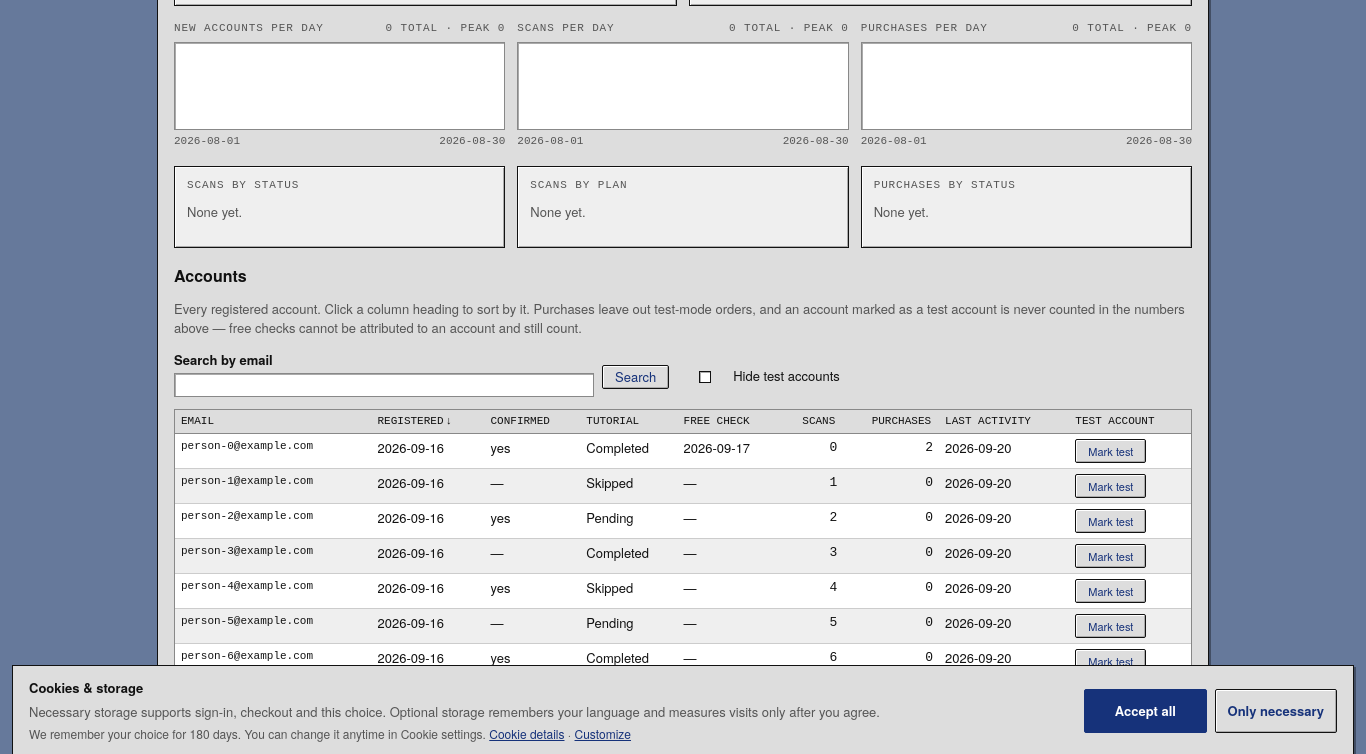
Test case: owner dashboard accounts list › says no account matches a search that found none
(page scrolled)
Check: the text "person-0@example.com" is shown, box [175,434,372,469]
Step 1. Type "nobody" into the field labelled "Search by email" → (384, 385), box [174,373,594,397]
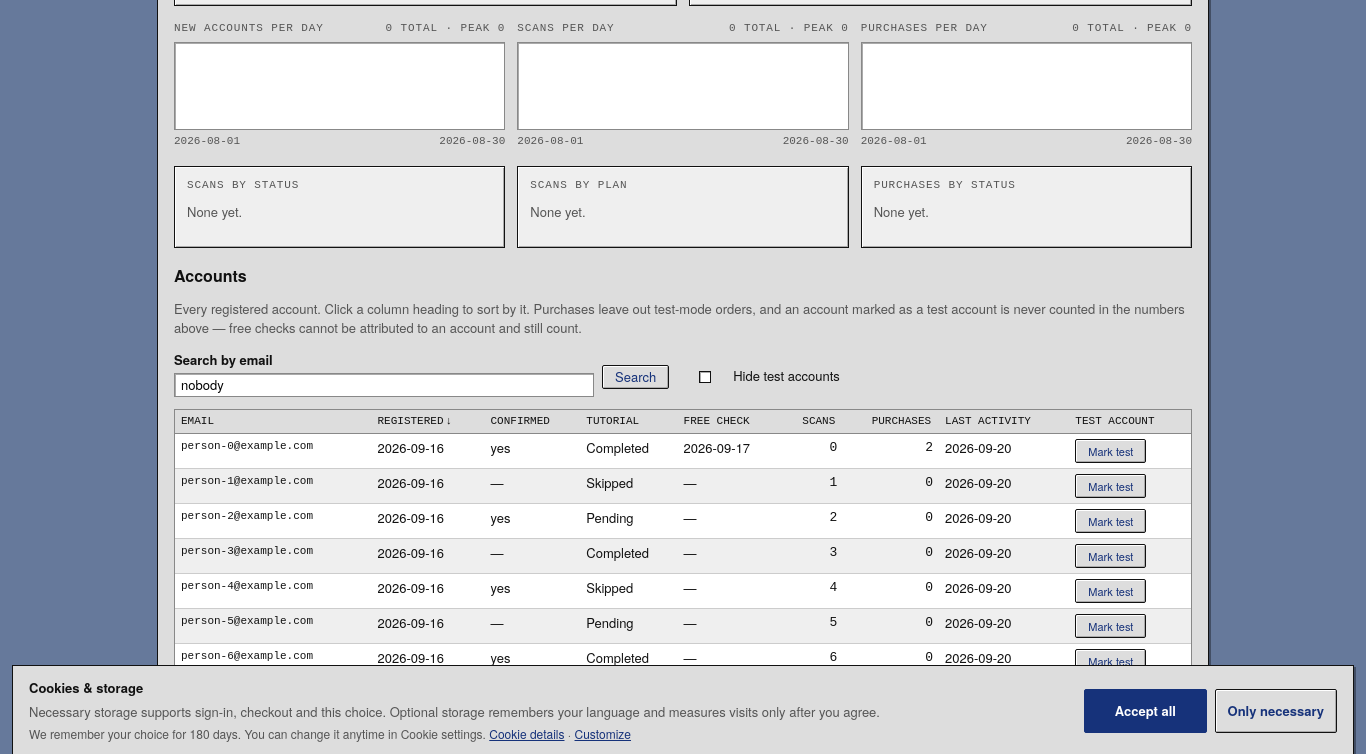
Step 2. Click the button "Search" → click(636, 377), box [602,365,669,389]
(page scrolled)
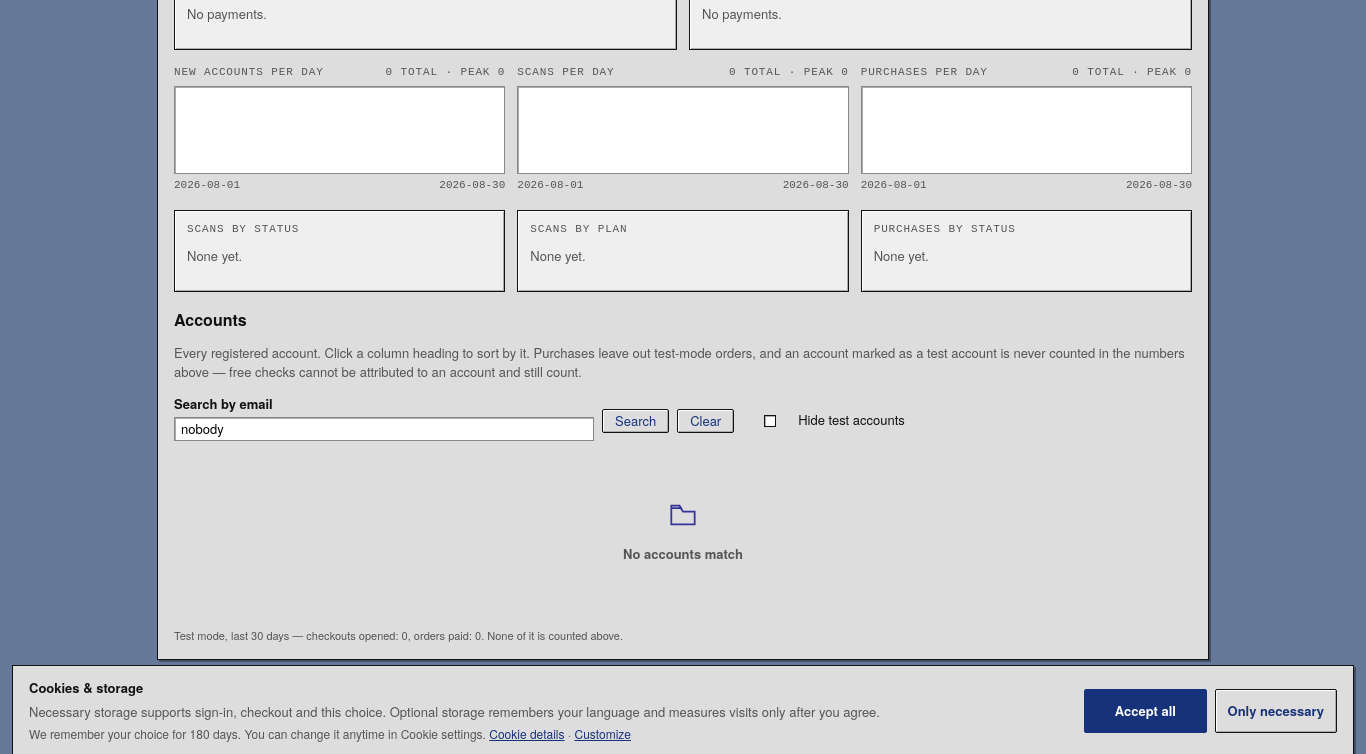
Check: the text "No accounts match" is shown, box [623,545,743,564]
